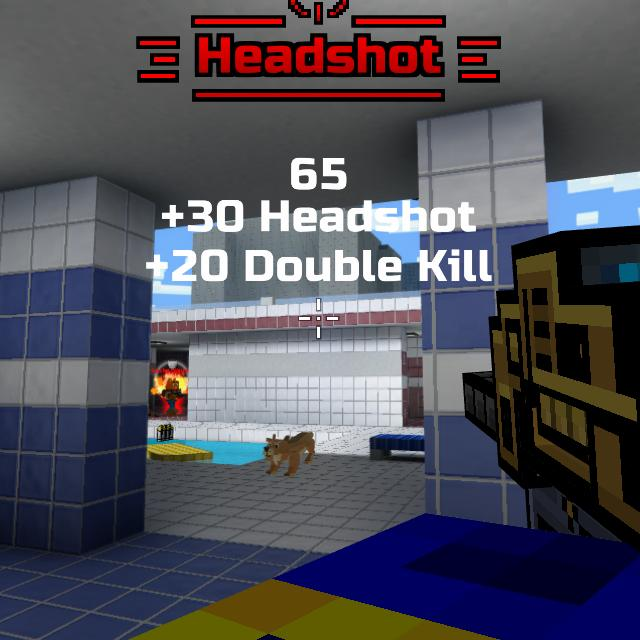Enemy: (161, 378, 184, 414)
